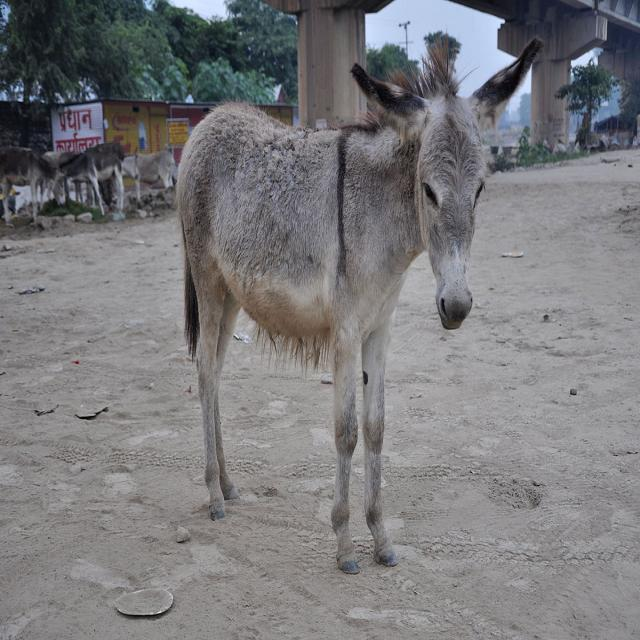donkey: (183, 94, 484, 470)
